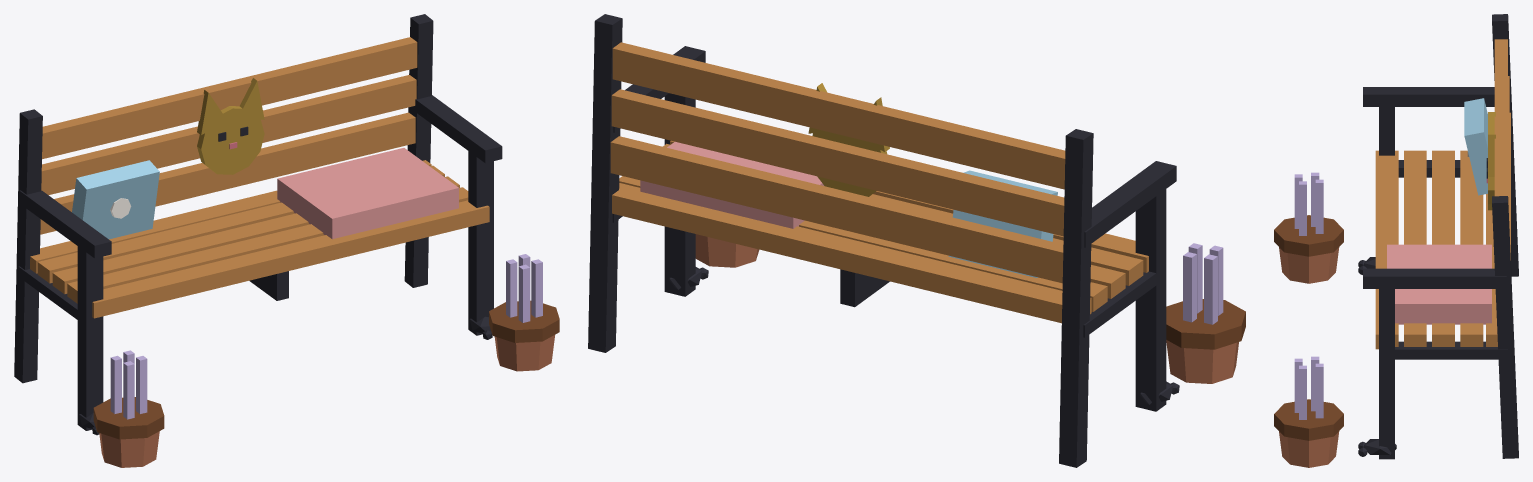
Rendered from CatCafe_Lawn_GardenBench.glb.
3 views of the same model, side by side, from view 1: azimuth 30°, elevation 25°; view 2: azimuth 150°, elevation 25°; view 3: azimuth 270°, elevation 25° (orthographic). The views are drawn at different scales.
Visible parts, largest first — view 1: CatCafe_Lawn_GardenBench; view 2: CatCafe_Lawn_GardenBench; view 3: CatCafe_Lawn_GardenBench.
Boxes of the visible parts, left/top/right/bottom form: CatCafe_Lawn_GardenBench: left=14, top=14, right=559, bottom=467; CatCafe_Lawn_GardenBench: left=588, top=14, right=1245, bottom=467; CatCafe_Lawn_GardenBench: left=1274, top=14, right=1518, bottom=467.
Bounding box in the file's own units: 3.76 × 2.1 × 1.82.
1 material, 1 textured.
